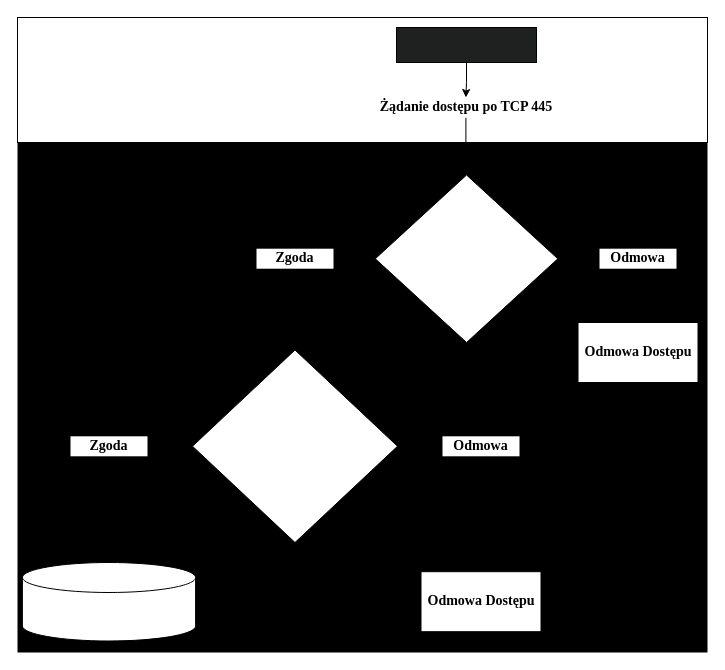
This 725x670 diagram has some shape labels left out. Each missing label, with the box of its shape:
Klient z sieci LAN: (396, 26, 536, 62)
Operacja I/O na Dysku: (21, 562, 196, 641)
Zamek nr 1 Uprawnienia Udziału SMB: (374, 174, 558, 342)
Zamek nr 2 Weryfikacja Praw ACL NTFS: (192, 349, 398, 542)
